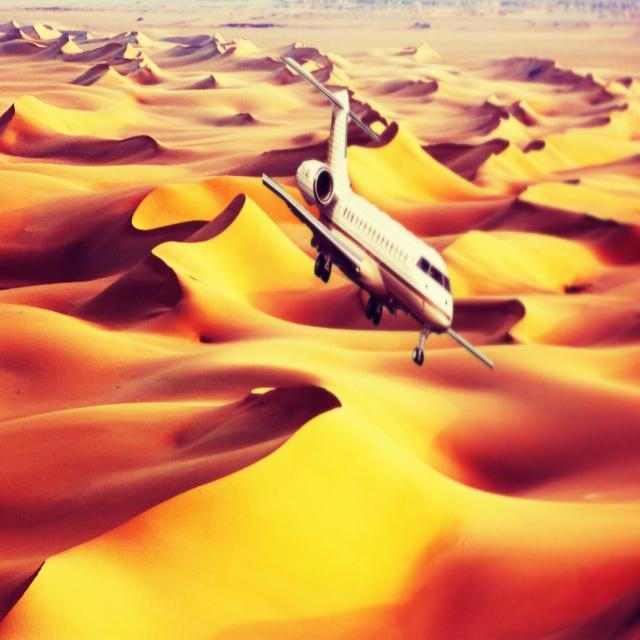airplane: (261, 53, 500, 370)
